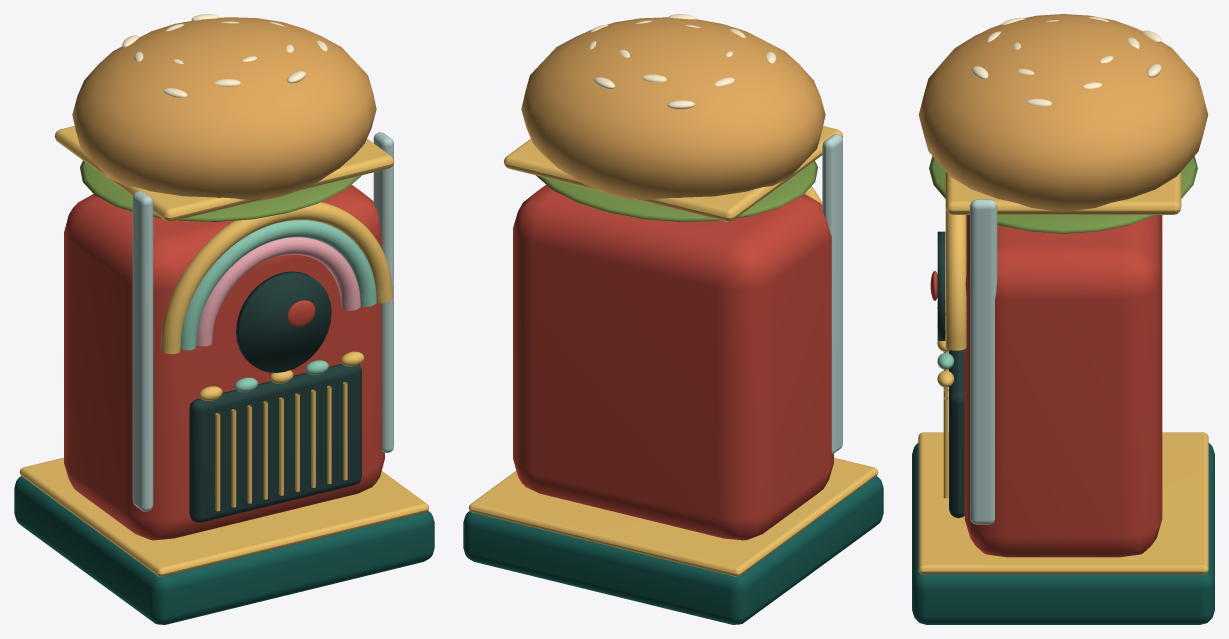
3 renders of one model, left to right at view 1: azimuth 30°, elevation 25°; view 2: azimuth 150°, elevation 25°; view 3: azimuth 270°, elevation 25°, orthographic. The views are drawn at different scales.
Visible parts, largest first — view 1: Red cabinet, Sesame crown, Brass welt, Jade footing, Speaker, Chrome flank, Vinyl record, Glowing arch.001, Glowing arch.002, Lettuce crown, Sesame seed, Record label; view 2: Red cabinet, Sesame crown, Jade footing, Brass welt, Chrome flank, Lettuce crown, Sesame seed; view 3: Red cabinet, Sesame crown, Brass welt, Jade footing, Chrome flank, Lettuce crown, Speaker, Sesame seed, Vinyl record.
Boxes of the visible parts, x1,y1,x2,y2 form: Red cabinet: (64,184,384,540); Sesame crown: (72,17,376,201); Brass welt: (19,126,429,576); Jade footing: (14,476,434,624); Speaker: (189,364,361,522); Chrome flank: (132,132,393,511); Vinyl record: (236,271,331,372); Glowing arch.001: (180,220,376,350); Glowing arch.002: (196,237,360,346); Lettuce crown: (80,160,361,221); Sesame seed: (122,14,327,97); Record label: (287,300,315,327); Red cabinet: (513,184,833,540); Sesame crown: (521,17,825,202); Jade footing: (463,476,883,624); Brass welt: (468,126,878,576); Chrome flank: (822,134,842,453); Lettuce crown: (536,161,817,221); Sesame seed: (588,14,776,109); Red cabinet: (964,215,1162,557); Sesame crown: (918,14,1208,211); Brass welt: (918,172,1208,574); Jade footing: (912,443,1214,624); Chrome flank: (970,199,997,524); Lettuce crown: (929,156,1197,233); Speaker: (949,349,964,518); Sesame seed: (972,17,1161,106); Vinyl record: (937,231,945,340).
Bounding box in the file's own units: 0.8 × 1.36 × 0.72.
